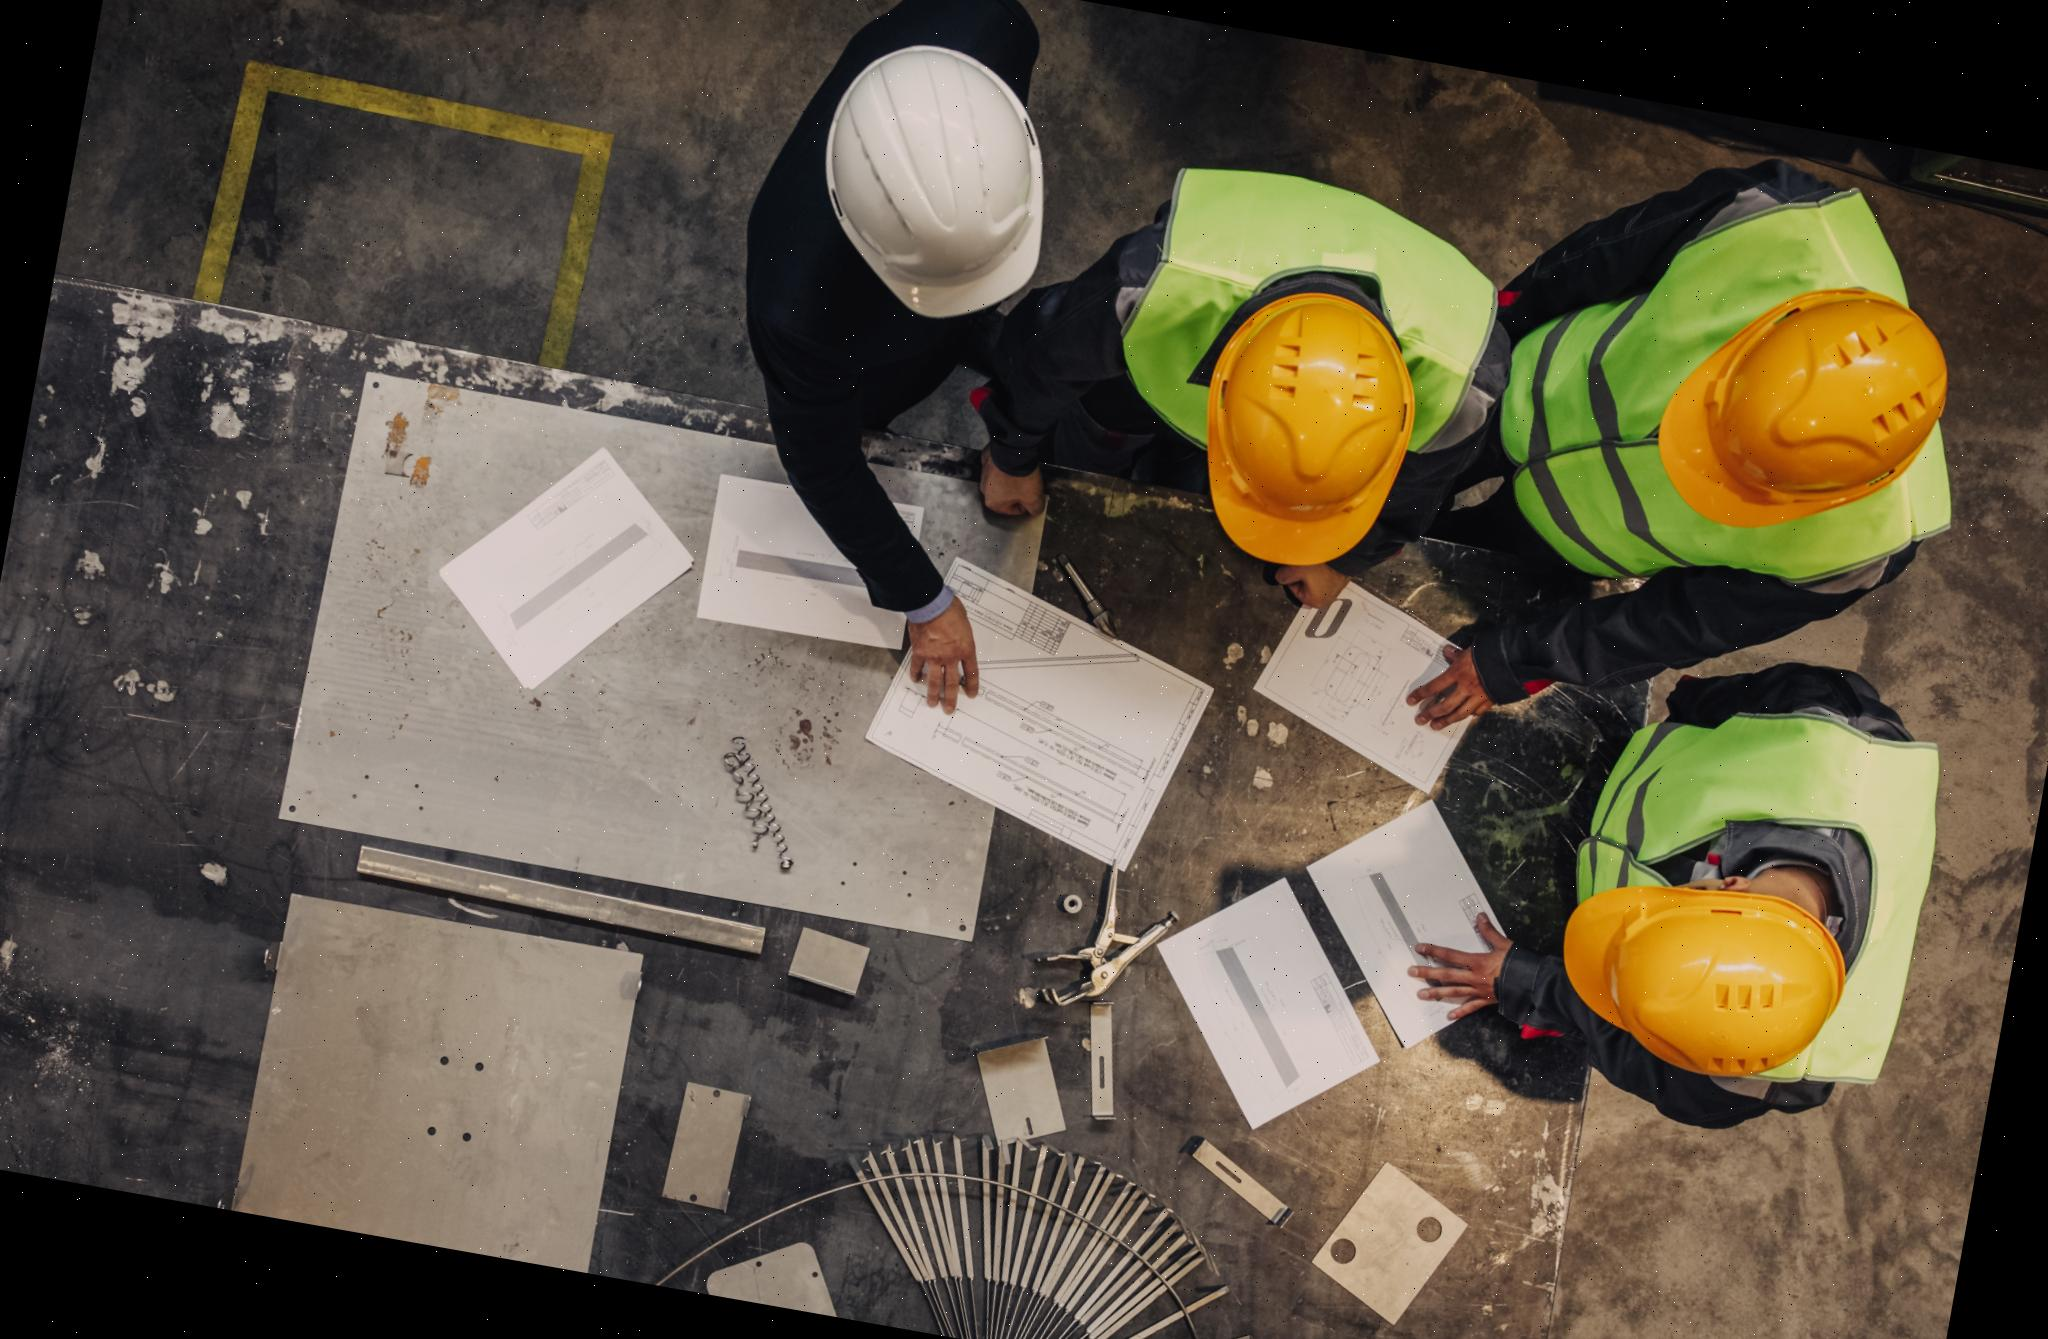helmet: (1639, 262, 1963, 566), (784, 22, 1083, 353), (1537, 850, 1861, 1107), (1185, 275, 1431, 596)
wear: (1591, 692, 1960, 931), (1143, 145, 1519, 339), (1480, 256, 1681, 592)
